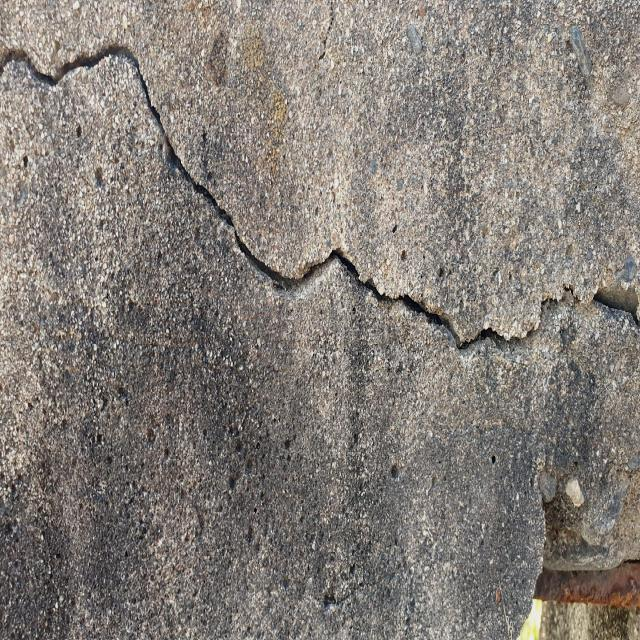SurfaceCrack: (0, 9, 639, 390)
